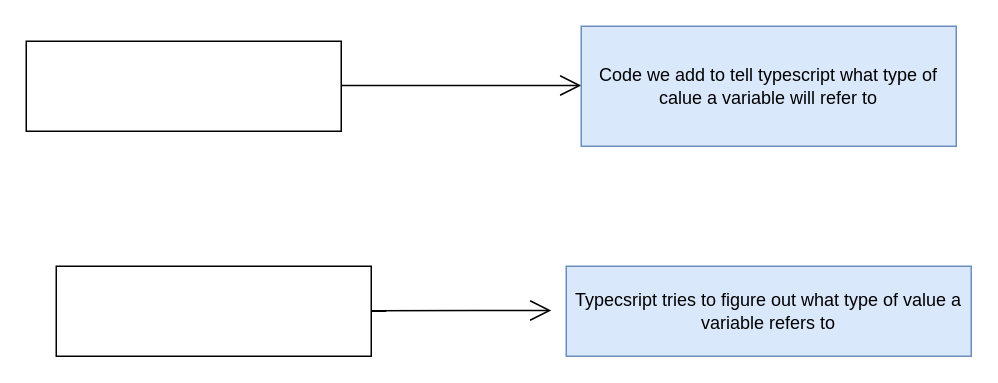
Some shapes in this 998 by 383 pixel diagram are drawn without their labels. The centre of each missing label's shape, as x and y in pixels:
Type annotations: point 183,85
Type interface: point 213,310
